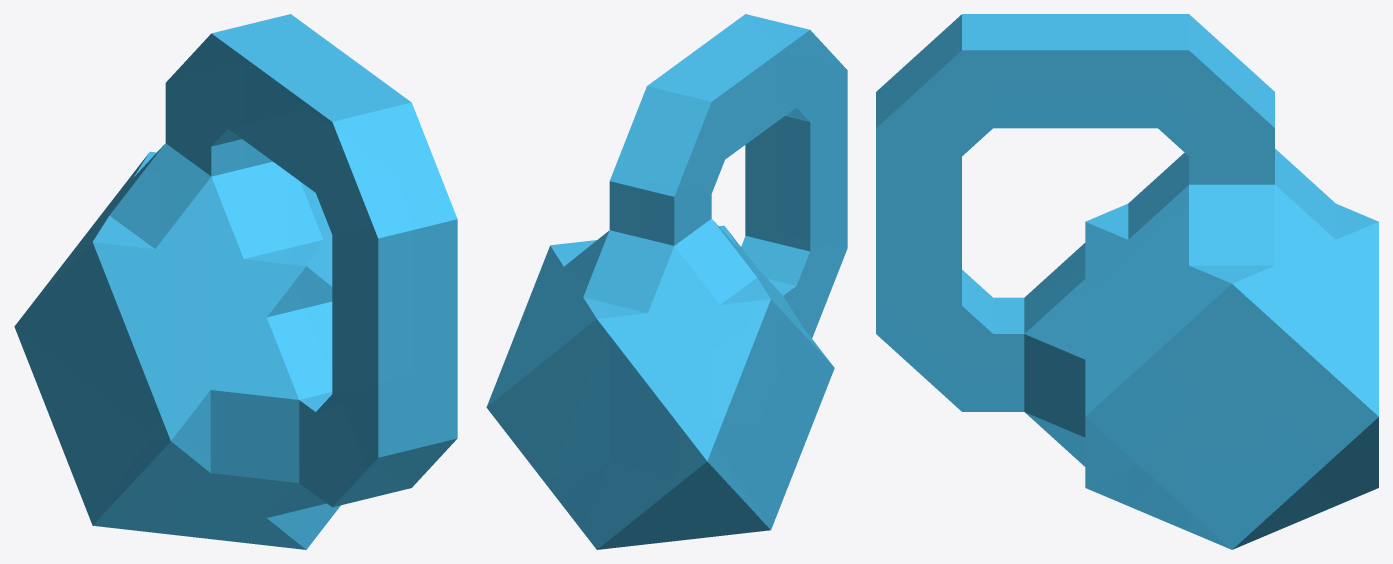
File: Cuboctahedron.obj
3 views of the same model, side by side, from view 1: azimuth 30°, elevation 25°; view 2: azimuth 150°, elevation 25°; view 3: azimuth 270°, elevation 25° (orthographic). The views are drawn at different scales.
Size of the model in its own units: 1.41 by 2.42 by 2.42.
